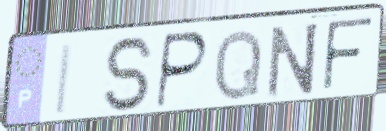F: (320, 15, 377, 95)
I: (52, 42, 75, 119)
N: (265, 19, 322, 101)
P: (153, 29, 211, 112)
Q: (211, 26, 265, 103)
S: (102, 34, 157, 115)
